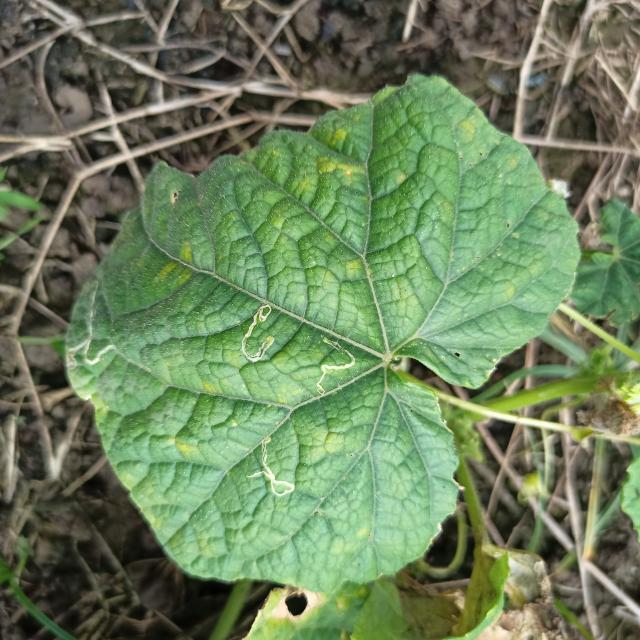disease_cucumber: (314, 122, 364, 186), (160, 244, 197, 285), (168, 434, 198, 458)
